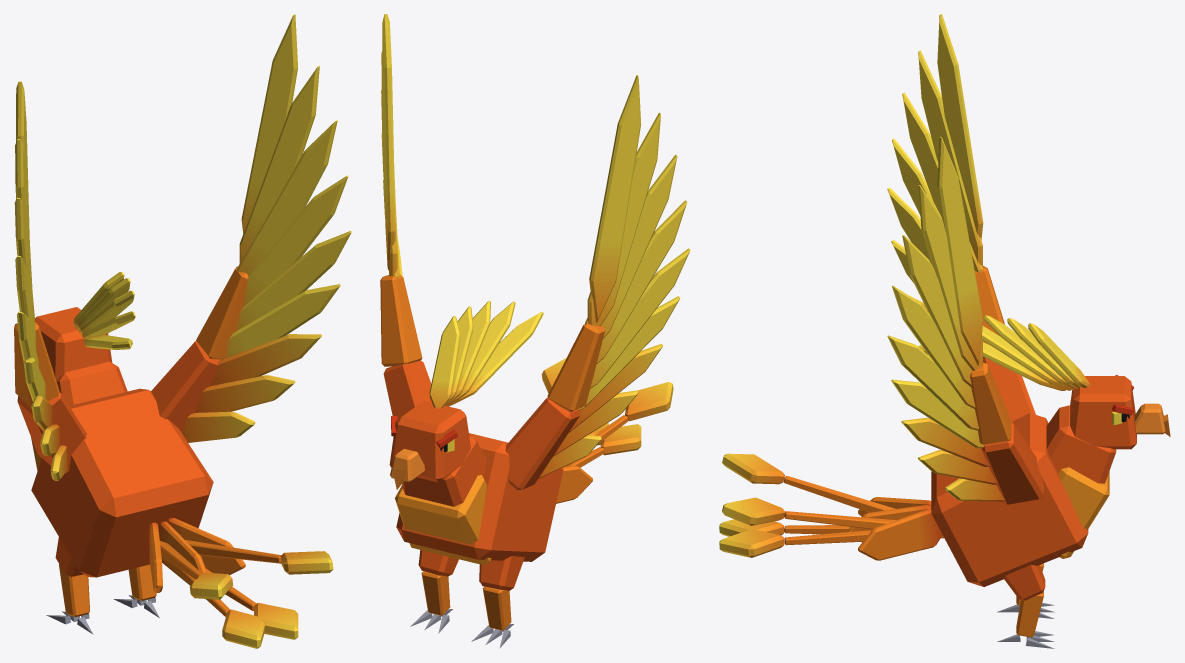
Rendered from Phoenix.glb.
3 renders of one model, left to right at view 1: azimuth 30°, elevation 25°; view 2: azimuth 150°, elevation 25°; view 3: azimuth 270°, elevation 25°, orthographic. The views are drawn at different scales.
Visible parts, largest first — view 1: Phoenix; view 2: Phoenix; view 3: Phoenix.
Part boxes in pixels (<box>): Phoenix: <box>14,14,351,648</box>; Phoenix: <box>380,14,690,648</box>; Phoenix: <box>719,14,1170,648</box>.
Size of the model in its own units: 7.5 by 12.92 by 9.59.
Materials: 1 (1 with a texture image).
